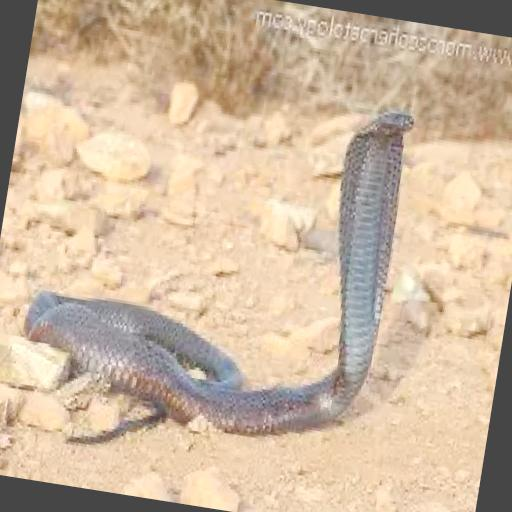snake: (24, 111, 413, 434)
